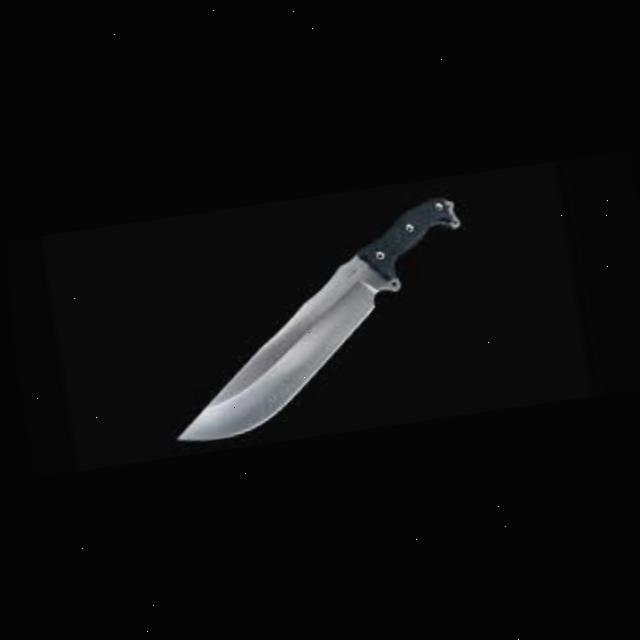knife: (140, 193, 486, 444)
